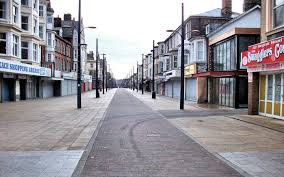strada: (9, 111, 284, 176)
